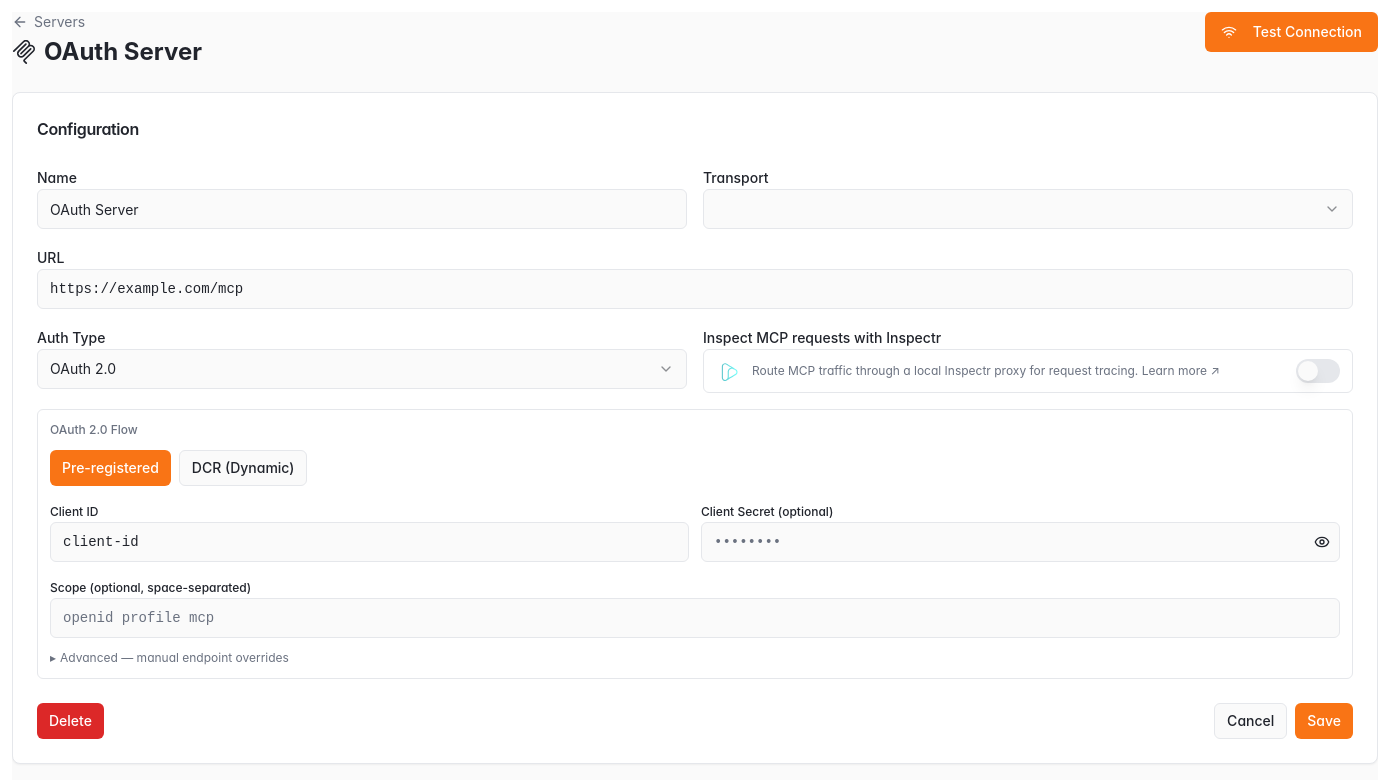
it: ServerDetail OAuth connection test › retries tool discovery after browser OAuth authorization completes
Click the button "Test Connection" at (1291,32), box [1205,12,1378,52]
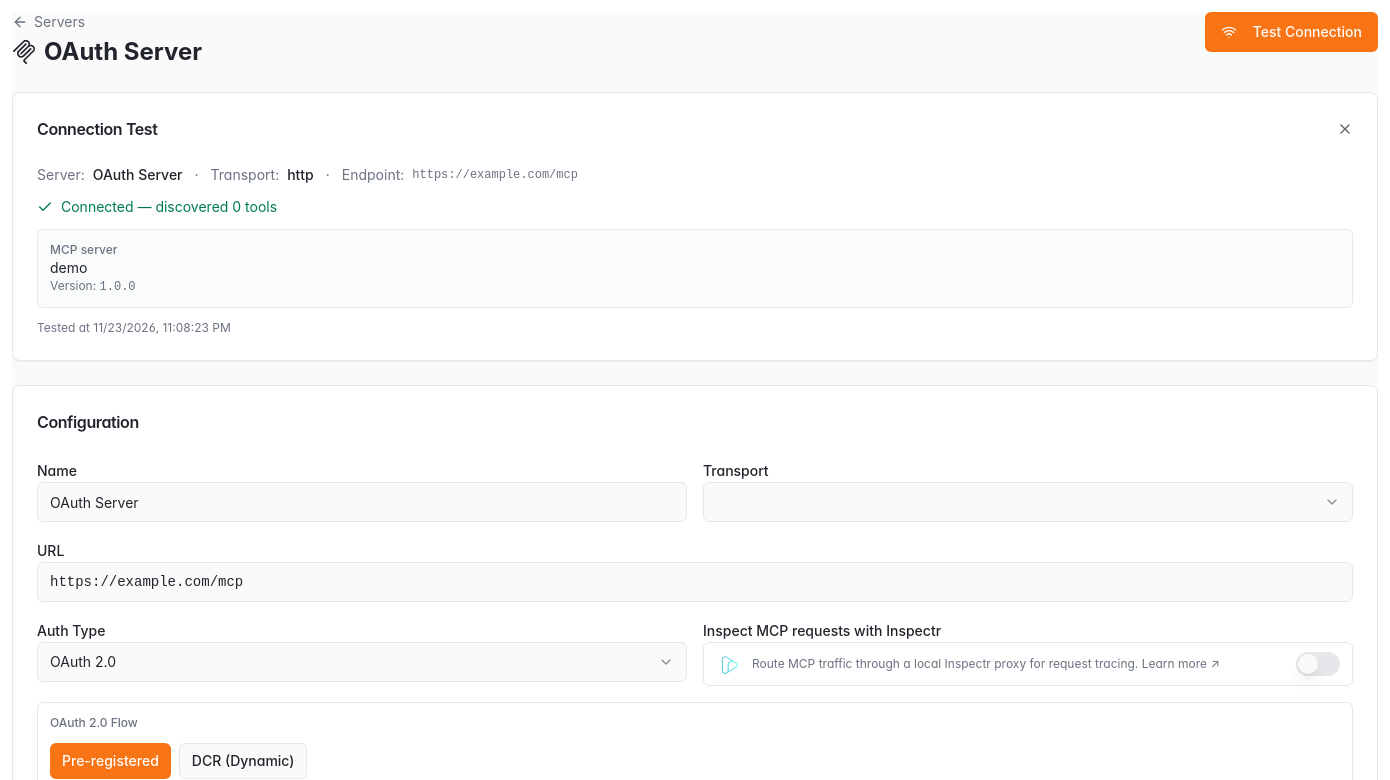
Result: the text "Connected — discovered 0 tools" is shown at [37,198,277,215]
